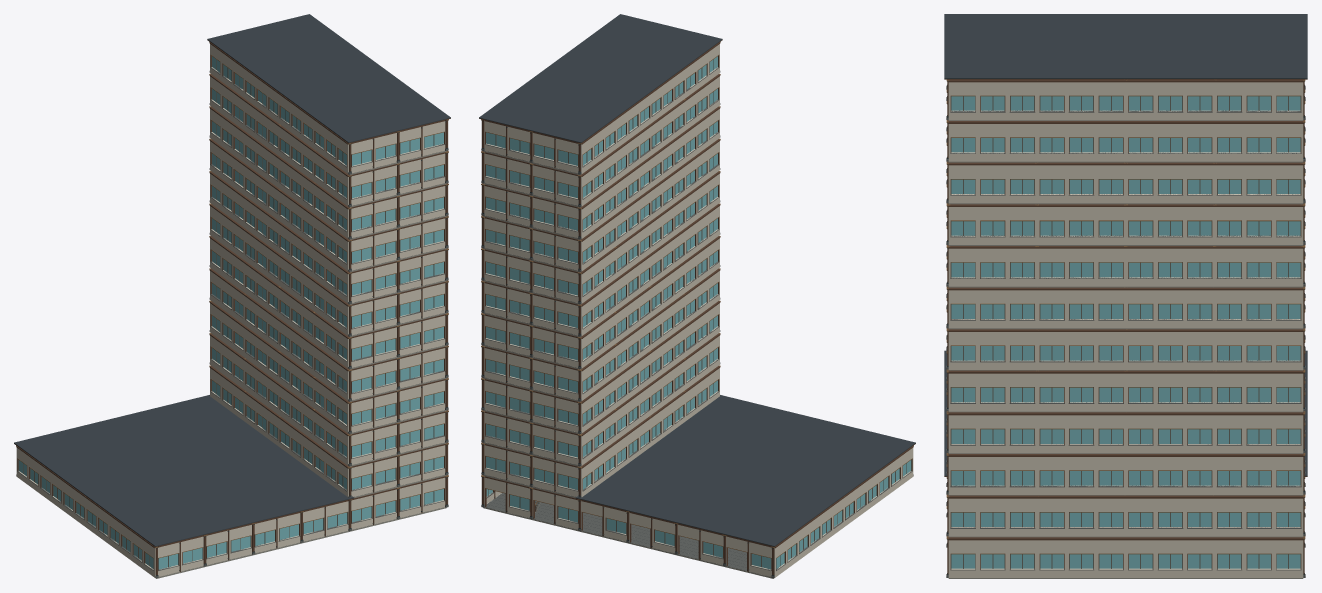
3 views of the same model, side by side, from view 1: azimuth 30°, elevation 25°; view 2: azimuth 150°, elevation 25°; view 3: azimuth 270°, elevation 25° (orthographic). The views are drawn at different scales.
Parts seen in each view (by area): view 1: 参数墙 · 独立窗玻璃 (×76), 连续屋面 · flat (×2); view 2: 参数墙 · 独立窗玻璃 (×70), 连续屋面 · flat (×2), 参数墙 · 通行门洞 (×6); view 3: 参数墙 · 独立窗玻璃 (×48), 连续屋面 · flat (×2).
Part boxes in pixels (x1,y1,x2,y2): 参数墙 · 独立窗玻璃 (×76): (16,42,446,577); 连续屋面 · flat (×2): (14,14,450,547); 参数墙 · 独立窗玻璃 (×70): (483,42,913,577); 连续屋面 · flat (×2): (479,14,915,547); 参数墙 · 通行门洞 (×6): (484,476,771,576); 参数墙 · 独立窗玻璃 (×48): (948,79,1303,577); 连续屋面 · flat (×2): (944,14,1307,476).
Size of the model in its own units: 42 by 53.12 by 34.8.
Materials: 15 (15 with a texture image).
